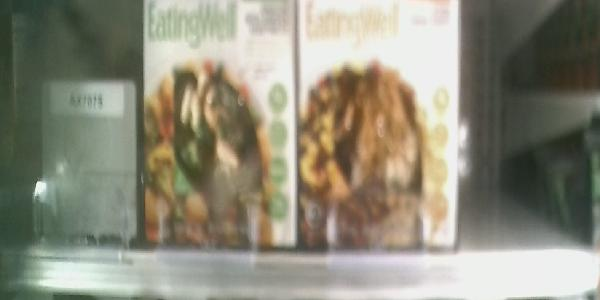pizza1: (297, 1, 457, 251), (143, 1, 300, 249)
